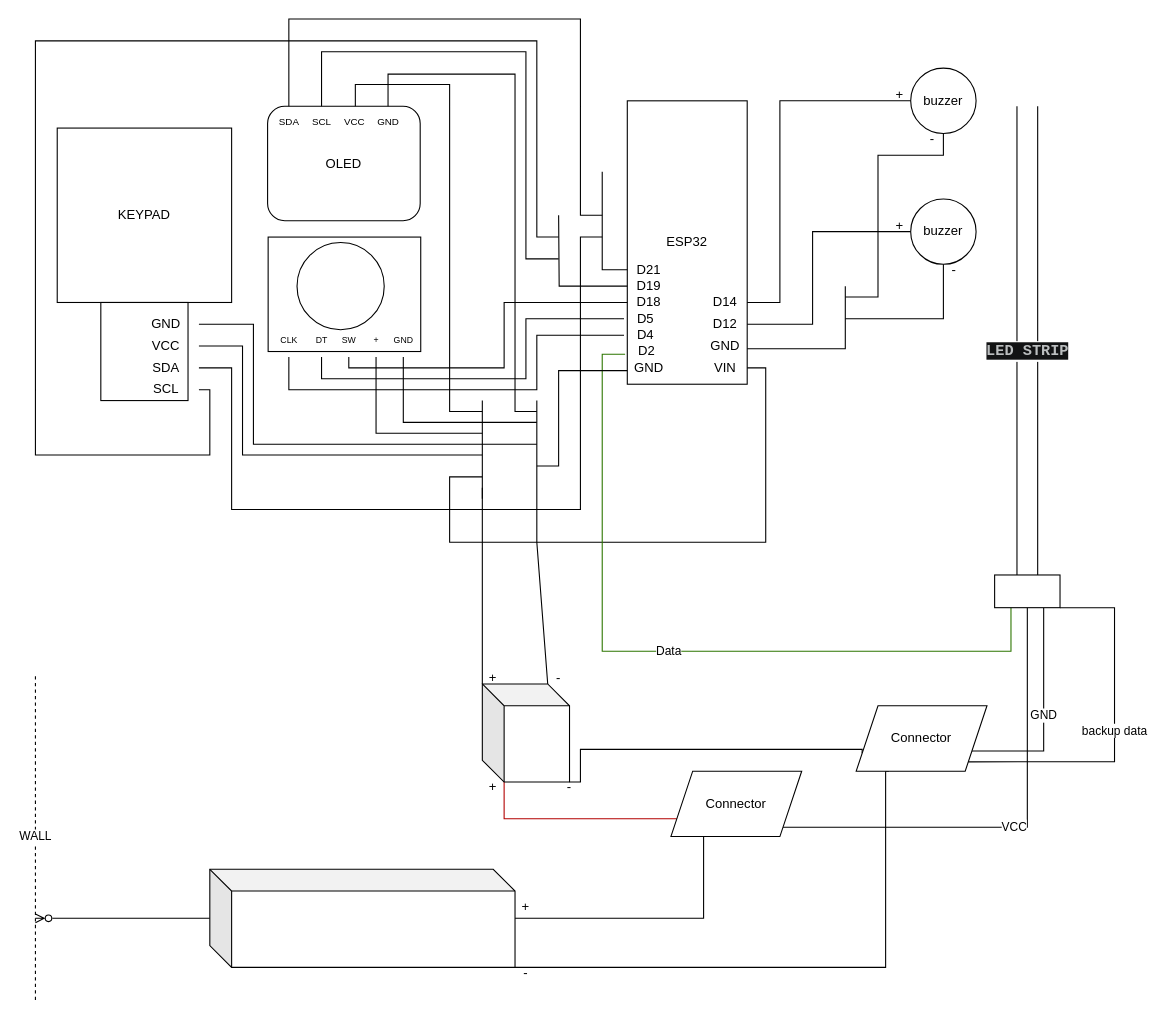
Image size: 1165x1020. Some labels were removed from this diagram. Each missing label, with the centre of its shape:
"12V - 5V Converter" goes at point 525,732.
"12V power supply" goes at point 362,917.
"ENCODER" goes at point 340,285.
